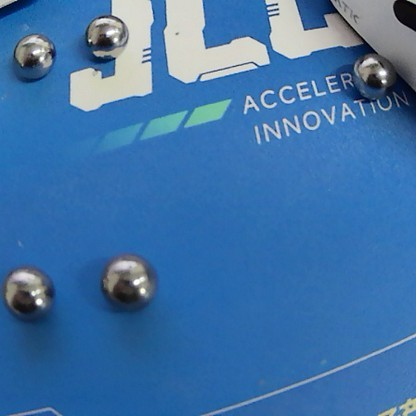ironball: (0, 267, 67, 322), (97, 253, 154, 306), (79, 7, 127, 65), (10, 27, 57, 82), (338, 51, 388, 97)
